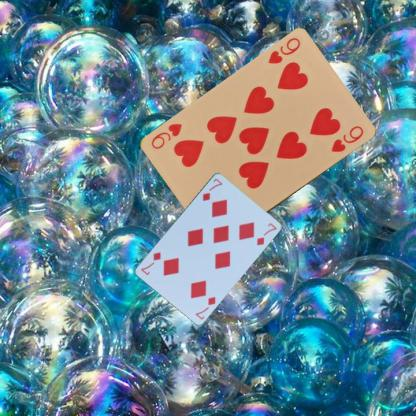7d: (192, 294, 217, 321), (200, 176, 224, 202)
9h: (265, 35, 302, 66)
